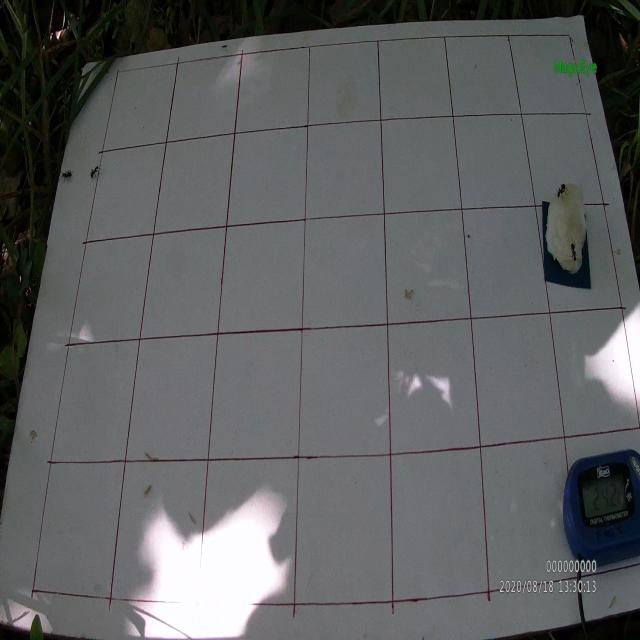Ant: (90, 158, 102, 180), (557, 181, 568, 203), (567, 238, 577, 262), (59, 170, 73, 183)
